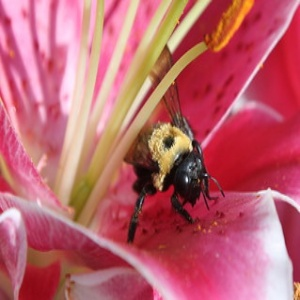bee: (144, 125, 225, 224)
